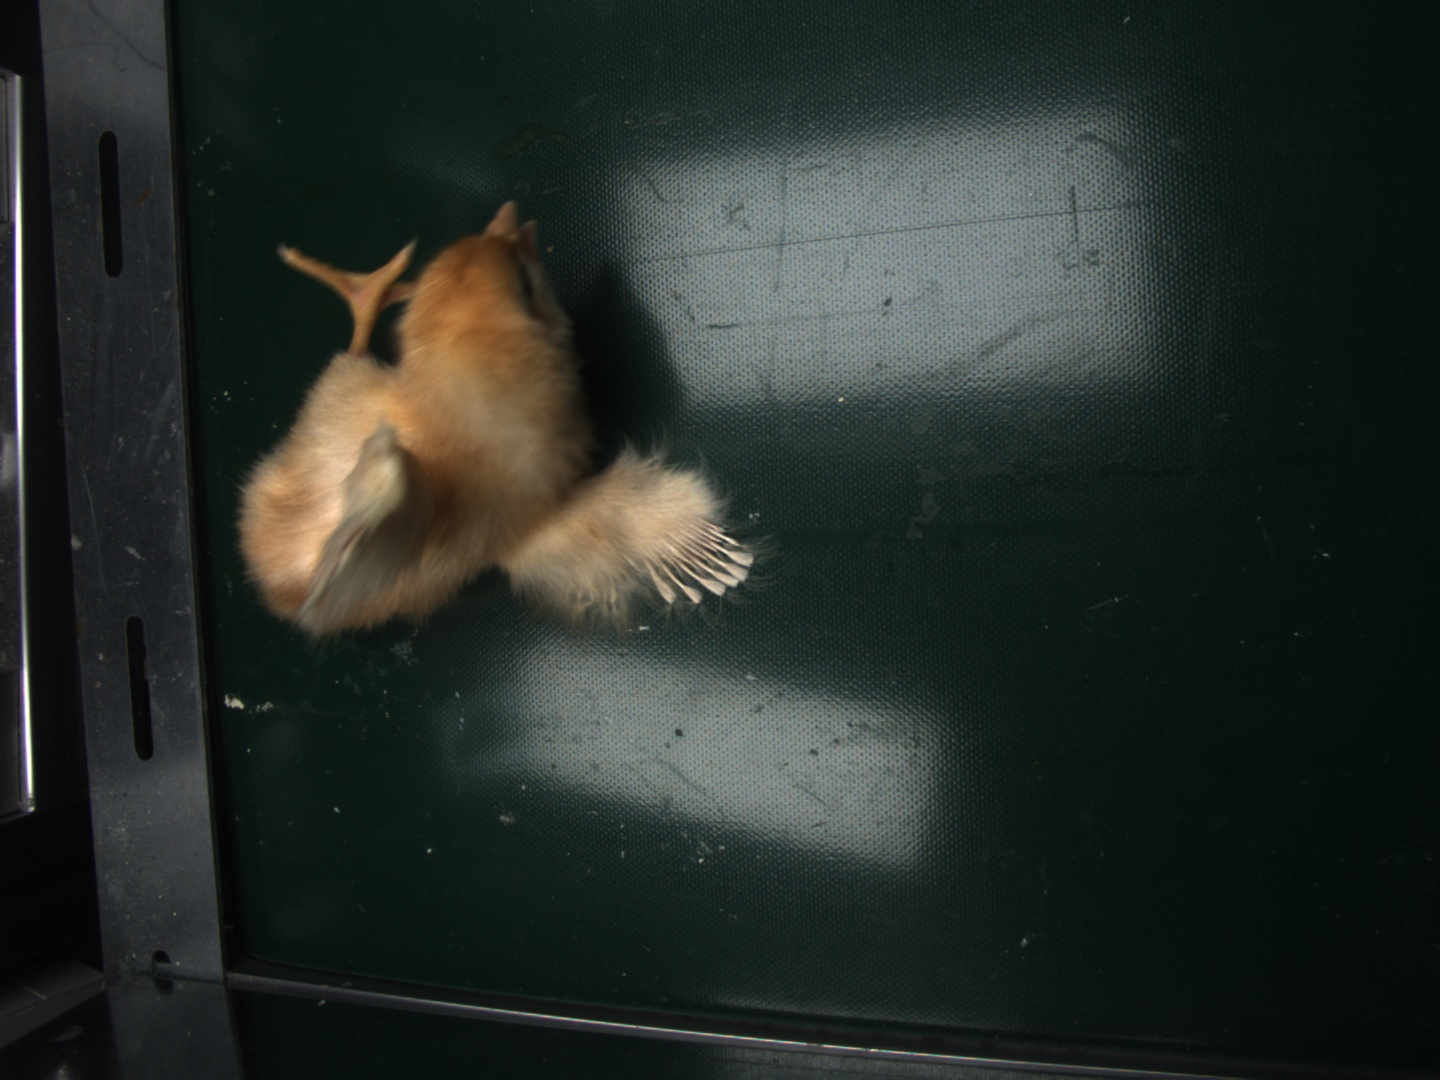female: (651, 518, 752, 601)
